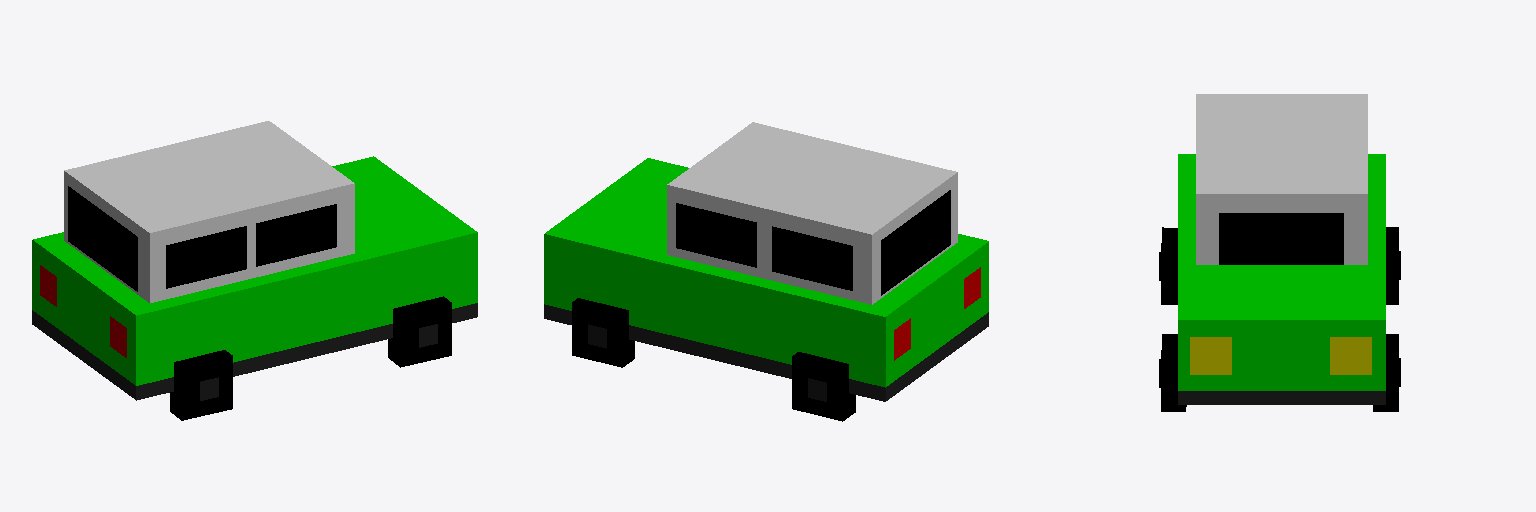
File: Carro.obj
3 renders of one model, left to right at view 1: azimuth 30°, elevation 25°; view 2: azimuth 150°, elevation 25°; view 3: azimuth 270°, elevation 25°, orthographic.
Visible parts, largest first — view 1: CarroCuerpo, VentanaAtras, Rueda.002, Rueda.003, VentanaLateralR, VentanaLateralR.001; view 2: CarroCuerpo, VentanaAtras, VentanaLateralL.001, VentanaLateralL, Rueda.001, Rueda; view 3: CarroCuerpo, VentanaDelantera, FaroDelantero, FaroDelantero.001, Rueda.002, Rueda.003, Rueda, Rueda.001.
Boxes of the visible parts, <box> form: CarroCuerpo: <box>32,121,477,400</box>; VentanaAtras: <box>68,186,137,291</box>; Rueda.002: <box>388,296,451,367</box>; Rueda.003: <box>170,350,232,420</box>; VentanaLateralR: <box>256,204,336,266</box>; VentanaLateralR.001: <box>166,226,246,288</box>; CarroCuerpo: <box>544,122,988,401</box>; VentanaAtras: <box>881,190,950,295</box>; VentanaLateralL.001: <box>772,226,852,290</box>; VentanaLateralL: <box>676,203,756,267</box>; Rueda.001: <box>792,352,855,421</box>; Rueda: <box>572,298,634,367</box>; CarroCuerpo: <box>1178,94,1385,404</box>; VentanaDelantera: <box>1219,213,1343,264</box>; FaroDelantero: <box>1190,337,1231,374</box>; FaroDelantero.001: <box>1330,337,1371,374</box>; Rueda.002: <box>1159,334,1186,411</box>; Rueda.003: <box>1159,227,1177,304</box>; Rueda: <box>1373,334,1400,411</box>; Rueda.001: <box>1386,227,1400,304</box>.
Size of the model in its own units: 8.46 by 4.23 by 5.19.